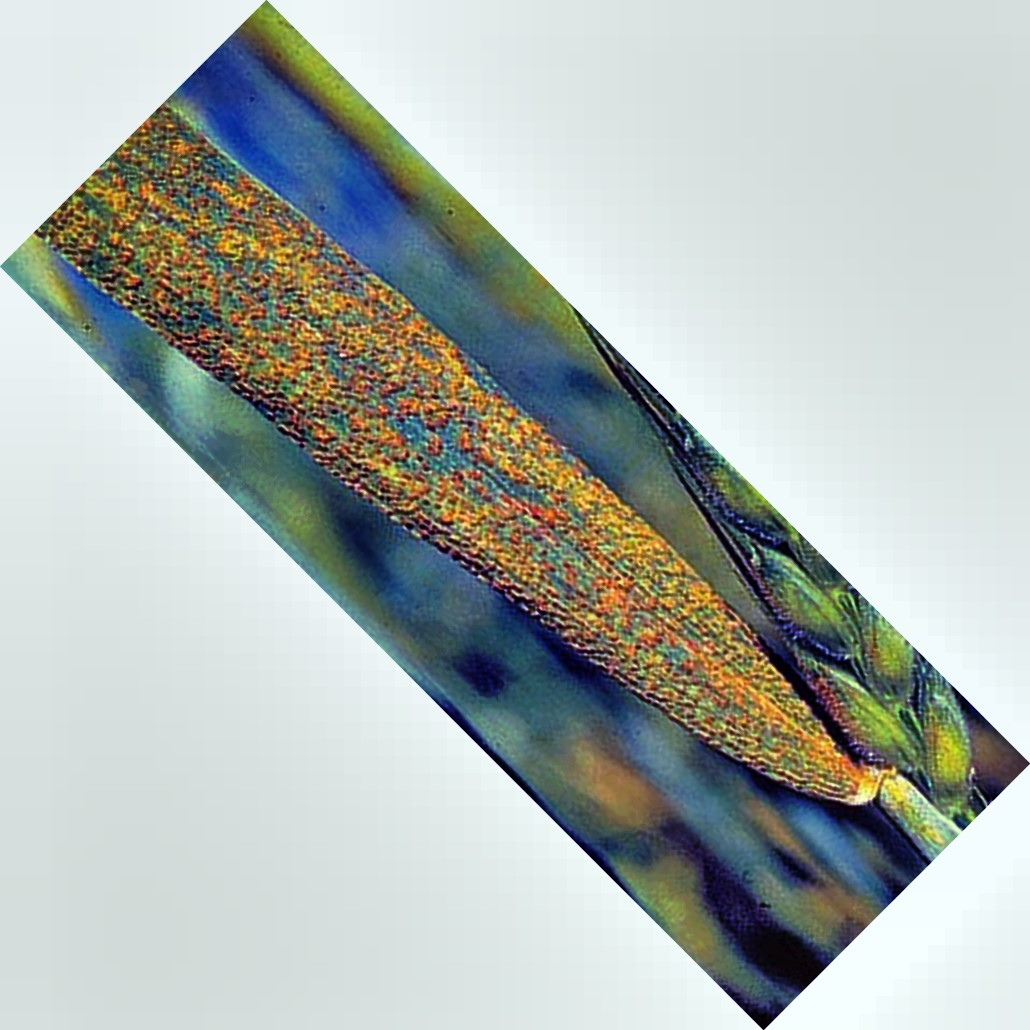Leaf Rust: (87, 170, 808, 725)
